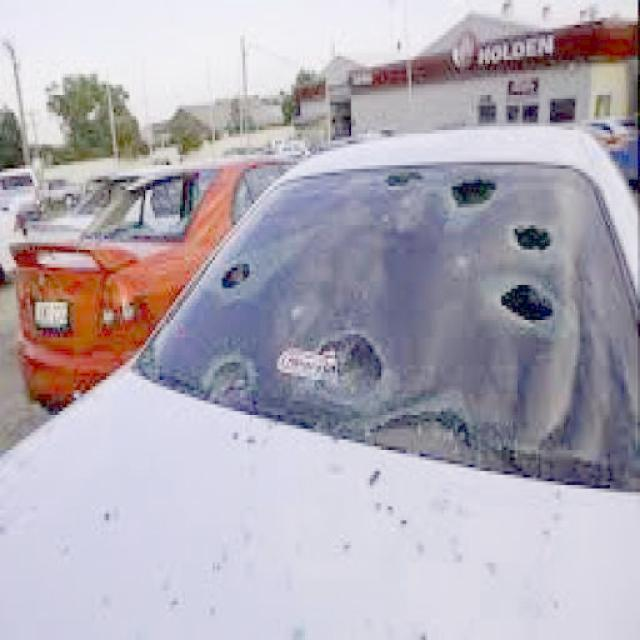car damage: (148, 162, 632, 490)
